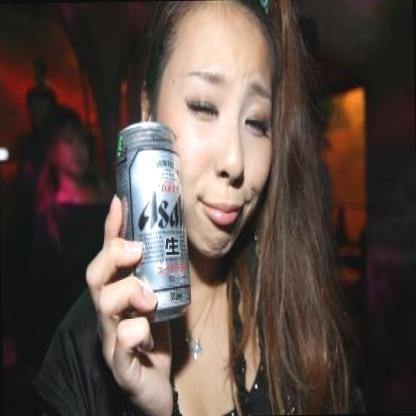alumunium_can: (114, 121, 190, 323)
